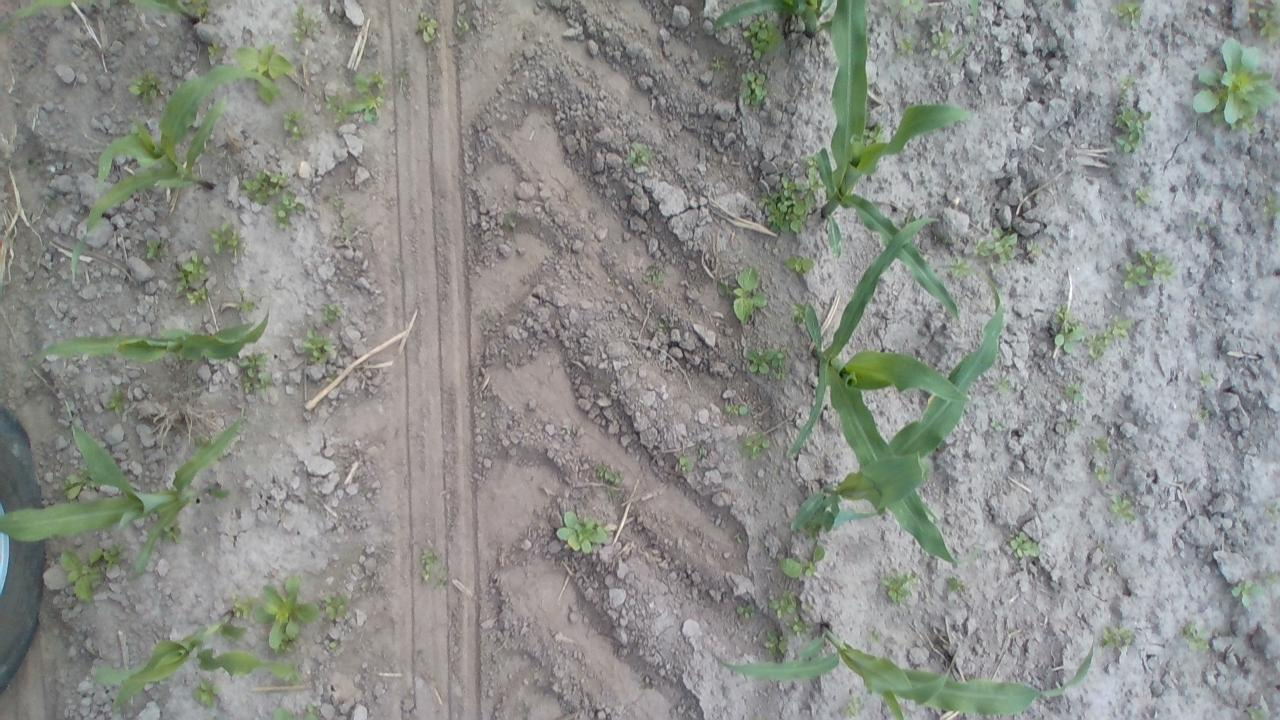Maize: (788, 219, 983, 568), (781, 276, 1004, 536), (815, 0, 971, 316), (70, 63, 280, 278), (0, 398, 246, 574), (708, 623, 1092, 720), (88, 608, 302, 712), (22, 294, 270, 382), (712, 0, 982, 65), (0, 0, 200, 33)
Weeds: (1192, 37, 1280, 136), (253, 574, 321, 657), (758, 165, 824, 235), (234, 42, 290, 104), (718, 266, 768, 324), (60, 546, 104, 602), (343, 72, 388, 124), (1123, 248, 1176, 290), (556, 512, 608, 554), (1086, 315, 1132, 359), (743, 14, 783, 62), (1112, 106, 1152, 152), (972, 226, 1018, 266), (1052, 303, 1086, 355), (239, 170, 287, 206), (778, 544, 826, 579), (238, 350, 274, 396), (270, 187, 304, 228), (175, 251, 208, 293), (746, 348, 789, 380), (126, 69, 160, 108), (326, 194, 354, 241), (302, 328, 336, 366), (60, 466, 96, 500), (881, 570, 917, 604), (1252, 0, 1280, 43), (418, 546, 446, 588), (1230, 580, 1269, 609), (209, 221, 241, 256), (292, 3, 319, 44), (280, 106, 310, 140), (738, 432, 772, 462), (741, 70, 768, 106), (1109, 0, 1143, 28), (192, 680, 222, 710), (1100, 625, 1132, 652), (768, 590, 798, 618), (1182, 622, 1210, 652), (228, 592, 258, 620), (324, 592, 352, 621), (1009, 532, 1041, 557), (762, 630, 789, 659), (1110, 492, 1135, 522), (272, 704, 318, 720), (103, 544, 129, 572), (417, 11, 438, 43), (930, 28, 954, 56), (158, 518, 182, 545), (784, 255, 814, 276), (104, 386, 125, 415), (234, 288, 256, 315), (1260, 192, 1280, 221), (146, 236, 170, 260), (627, 142, 650, 166), (789, 614, 812, 638), (862, 124, 886, 146), (950, 258, 974, 279), (595, 464, 620, 484), (844, 695, 865, 718), (1063, 378, 1083, 402), (322, 303, 344, 324), (1117, 76, 1136, 100), (186, 286, 208, 306), (1134, 184, 1153, 207), (803, 518, 820, 542), (186, 0, 208, 18), (641, 266, 663, 284), (1092, 435, 1110, 456), (206, 40, 224, 60), (896, 37, 914, 57), (1094, 464, 1112, 483), (22, 157, 40, 175), (721, 404, 748, 416), (946, 574, 964, 592), (1247, 706, 1270, 720), (210, 484, 230, 500), (791, 301, 805, 323), (452, 14, 470, 31), (1198, 371, 1216, 388), (996, 376, 1015, 392), (900, 0, 925, 12), (323, 93, 340, 110), (1026, 240, 1044, 256), (679, 454, 693, 474), (737, 603, 755, 618), (334, 108, 350, 124), (1196, 406, 1210, 424), (804, 152, 820, 167), (868, 630, 884, 644), (1266, 504, 1280, 519), (710, 60, 727, 72), (193, 436, 210, 448), (502, 210, 514, 227), (1067, 418, 1080, 432), (654, 320, 672, 330), (989, 420, 1002, 432), (329, 638, 342, 650), (42, 195, 56, 206), (1265, 574, 1280, 584), (698, 445, 709, 458), (733, 532, 742, 544), (801, 604, 812, 612)
